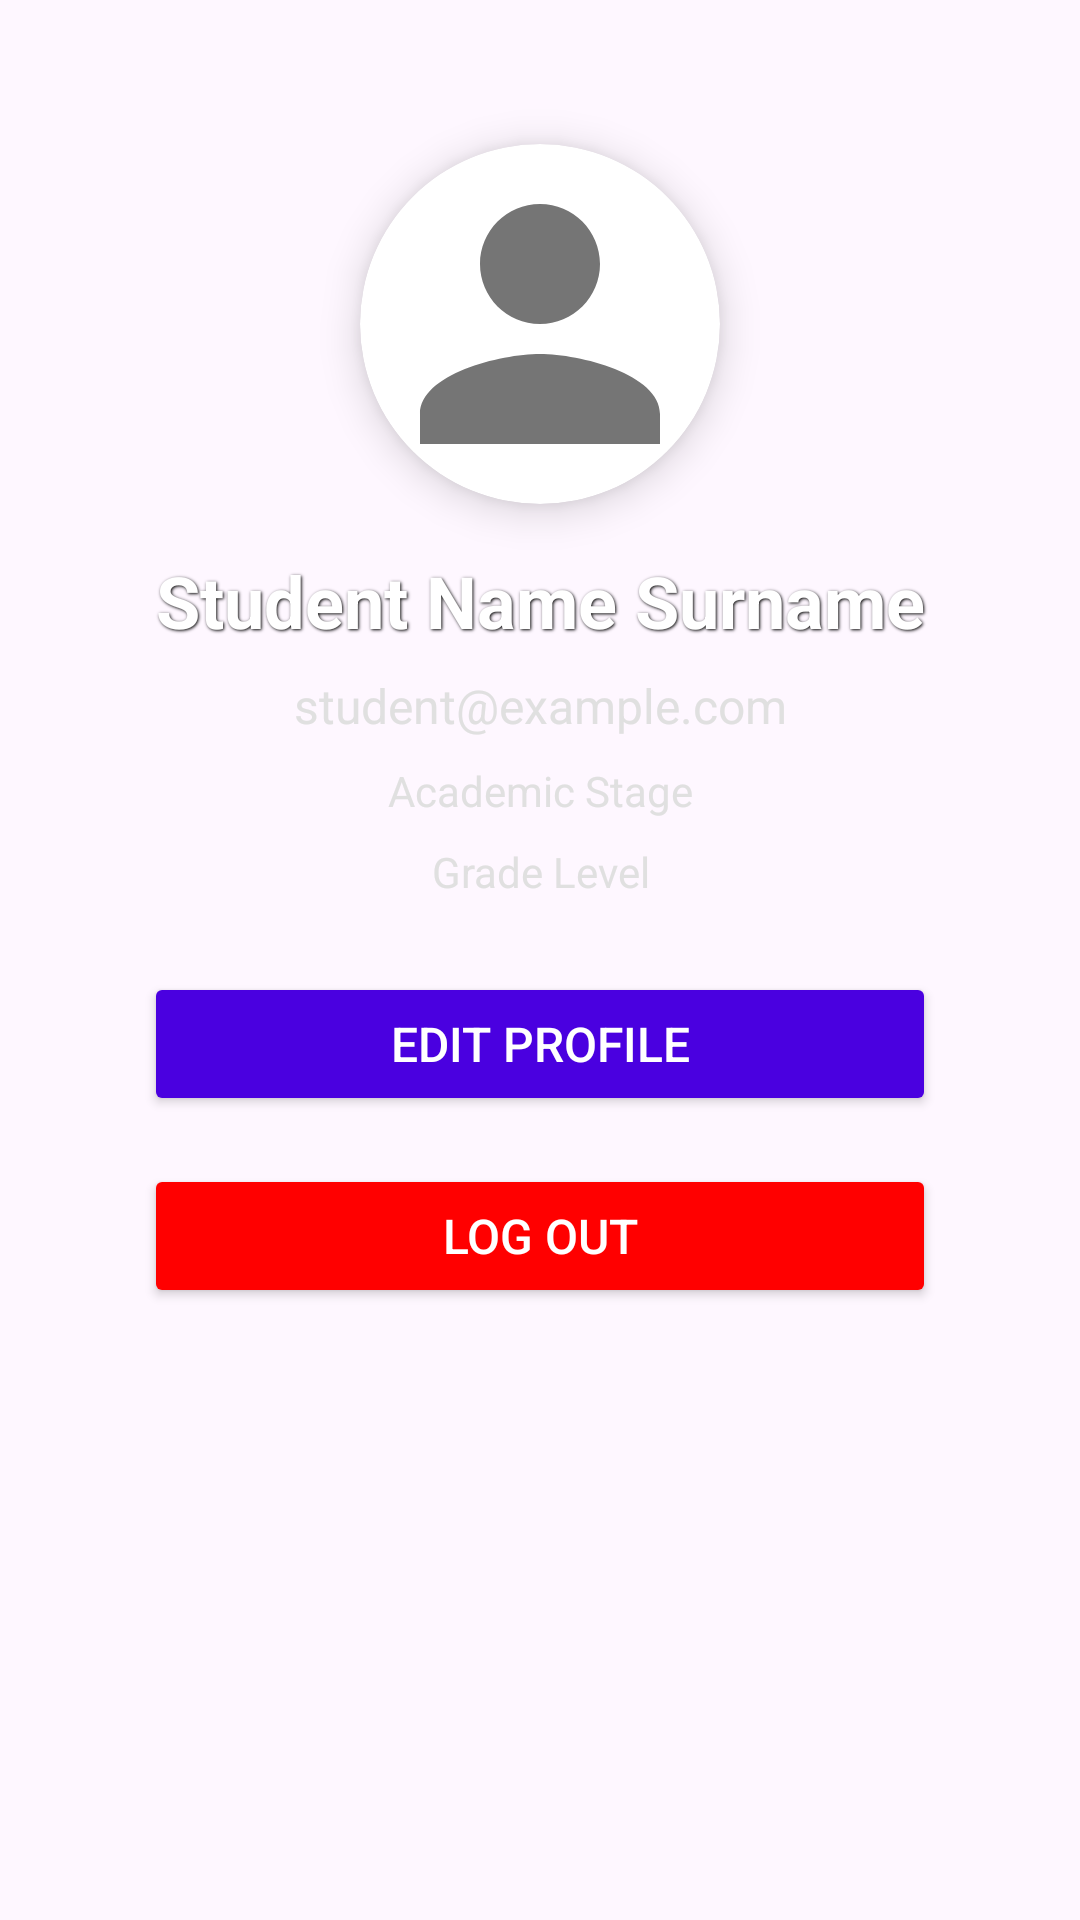

Where to tap for icons on this 1080x1920 app screen, as (x,y):
Student profile image: (540,324)
